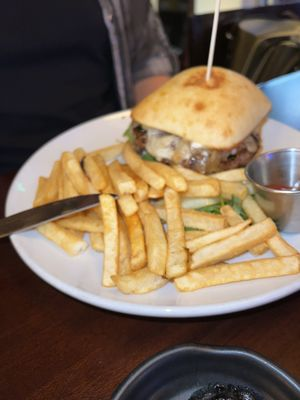sandwich: (0, 192, 102, 241)
sushi: (111, 345, 299, 400), (244, 146, 300, 237)
